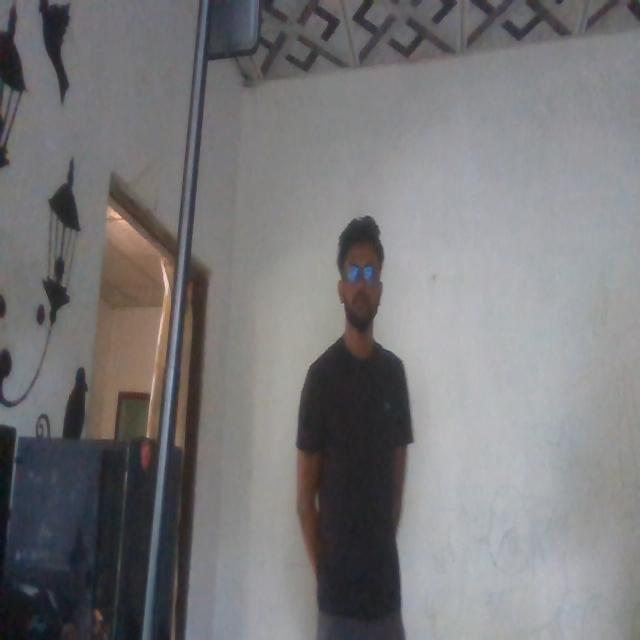Person: (301, 202, 419, 634)
